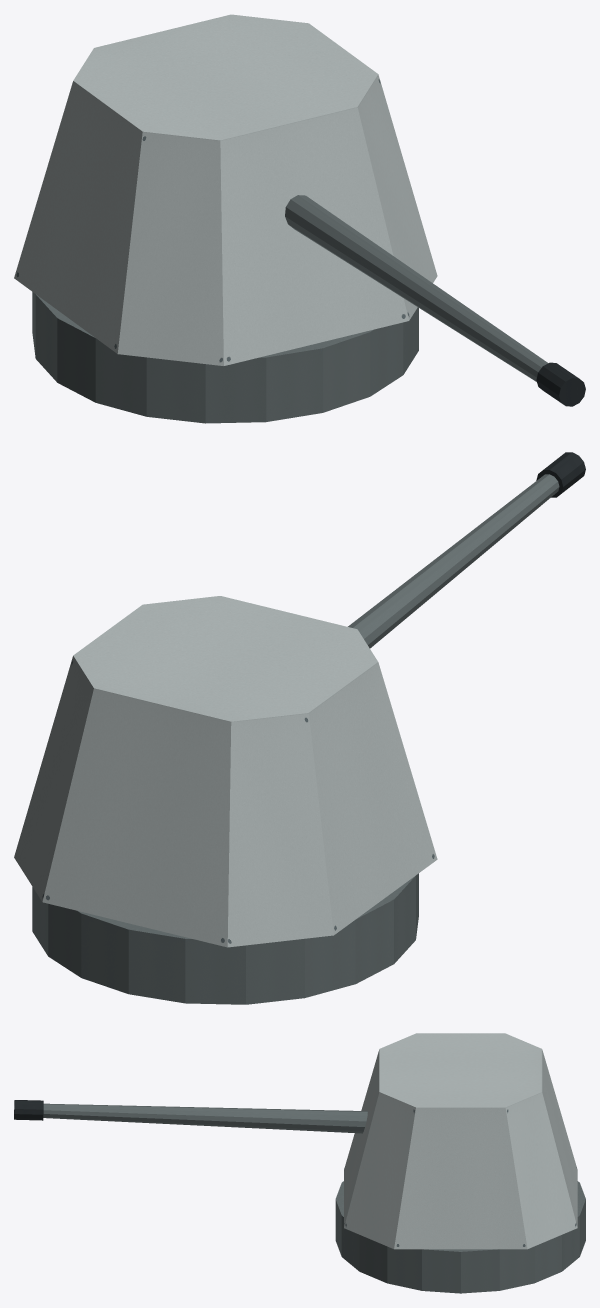
File: mount_f124_76mm.glb
The picture shows the model from 3 angles, top to bottom: view 1: azimuth 30°, elevation 25°; view 2: azimuth 150°, elevation 25°; view 3: azimuth 270°, elevation 25°; orthographic projection. The views are drawn at different scales.
Visible parts, largest first — view 1: MESH_F124_TEMPLATE_76mm.002_F124_PaintedSteel_UV.026; view 2: MESH_F124_TEMPLATE_76mm.002_F124_PaintedSteel_UV.026; view 3: MESH_F124_TEMPLATE_76mm.002_F124_PaintedSteel_UV.026.
Part boxes in pixels (bbox=[...]): MESH_F124_TEMPLATE_76mm.002_F124_PaintedSteel_UV.026: bbox=[14, 14, 585, 423]; MESH_F124_TEMPLATE_76mm.002_F124_PaintedSteel_UV.026: bbox=[14, 452, 585, 1004]; MESH_F124_TEMPLATE_76mm.002_F124_PaintedSteel_UV.026: bbox=[14, 1033, 585, 1293].
Bounding box in the file's own units: 210 × 157 × 479.
Materials: 1 (1 with a texture image).
